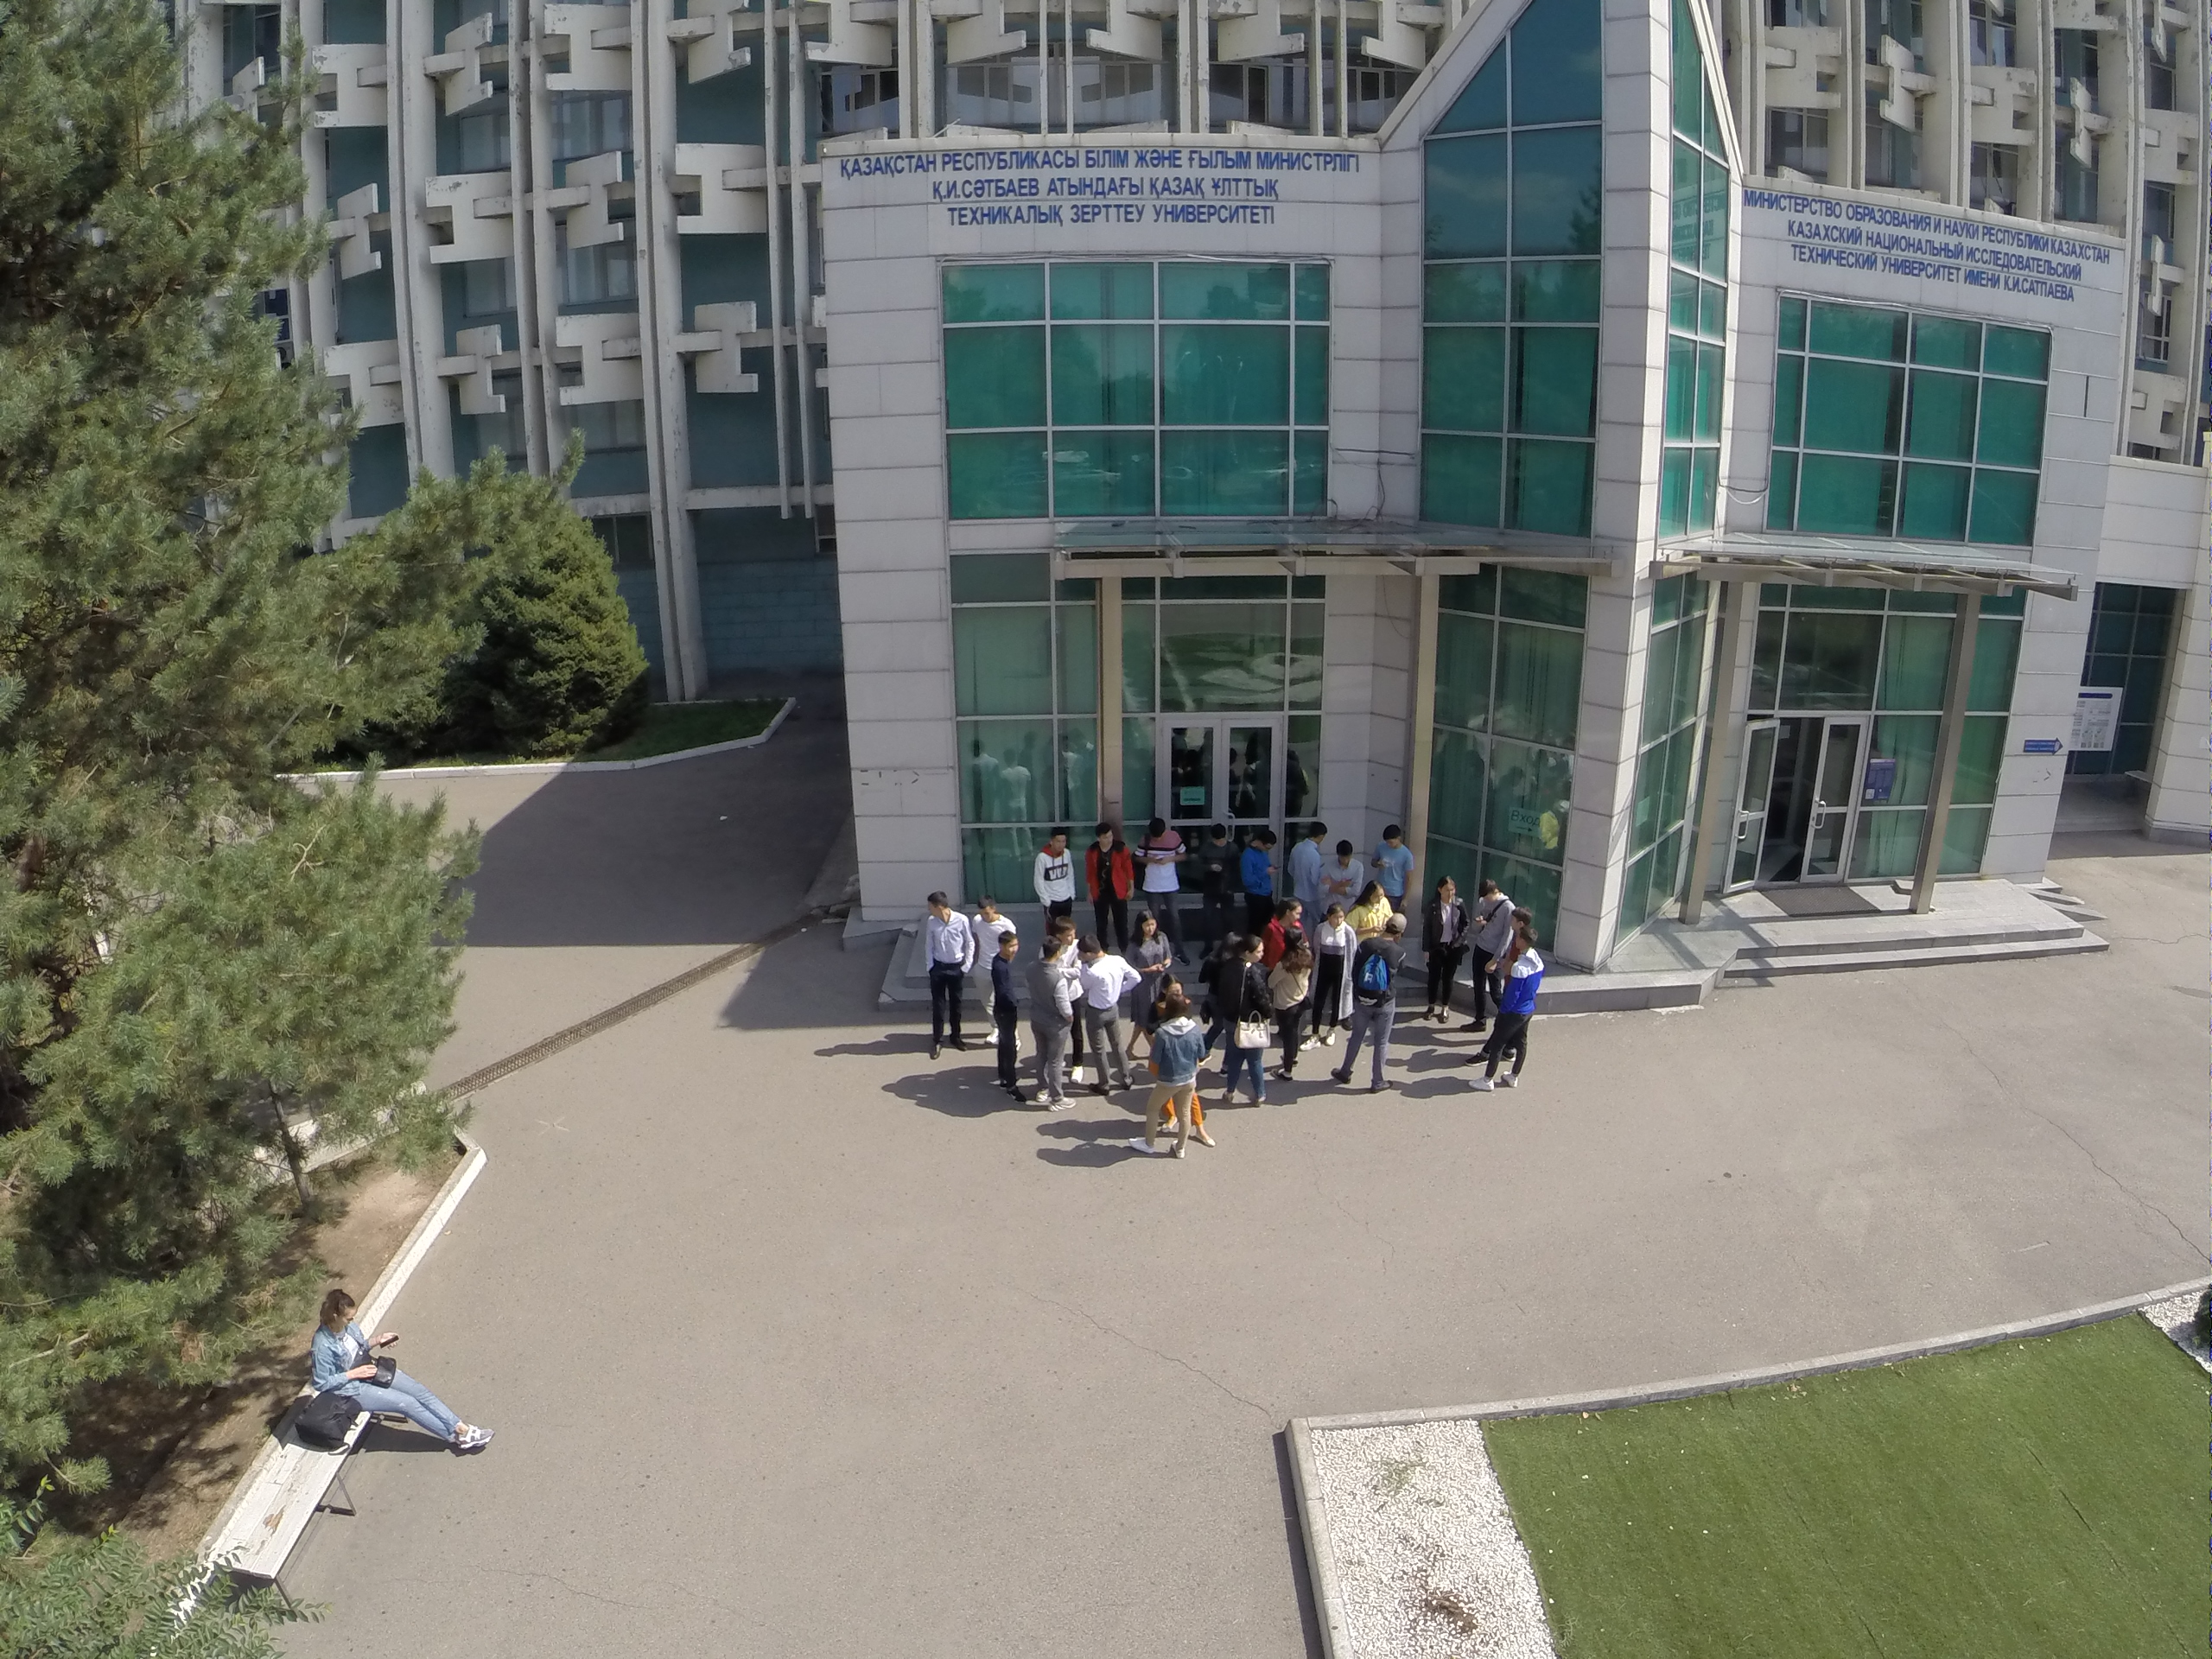person: (270, 1268, 493, 1472), (1335, 906, 1413, 1104), (1472, 931, 1548, 1101), (1131, 993, 1206, 1159), (902, 879, 969, 1058), (1463, 875, 1522, 1046), (1213, 940, 1272, 1111), (1027, 935, 1077, 1121), (1084, 931, 1135, 1107), (986, 923, 1028, 1109), (1420, 871, 1469, 1027), (1268, 925, 1310, 1085), (1135, 811, 1188, 935), (1126, 898, 1163, 1046), (1313, 903, 1352, 1050), (1090, 823, 1133, 951), (969, 891, 999, 1051), (1199, 817, 1236, 944), (1027, 824, 1071, 924), (1370, 824, 1416, 911), (1293, 819, 1331, 922), (1248, 822, 1281, 931), (1321, 840, 1366, 903)
